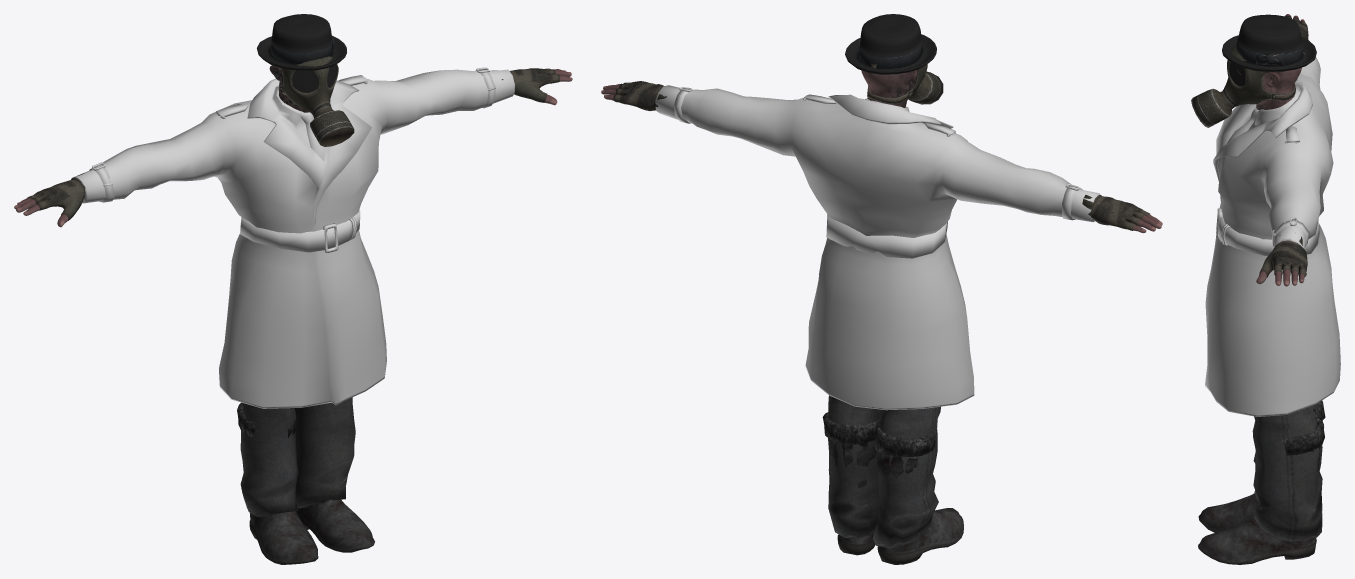
File: Saidamir.obj
3 renders of one model, left to right at view 1: azimuth 30°, elevation 25°; view 2: azimuth 150°, elevation 25°; view 3: azimuth 270°, elevation 25°, orthographic.
Visible parts, largest first — view 1: Tops, Bottoms, Shoes, Hats, Masks, Gloves, Body; view 2: Tops, Bottoms, Shoes, Hats, Gloves, Body, Masks; view 3: Tops, Bottoms, Shoes, Hats, Masks, Body, Gloves.
Part boxes in pixels (x1=…): Tops: x1=73, y1=67, x2=514, y2=408; Bottoms: x1=240, y1=397, x2=355, y2=516; Shoes: x1=237, y1=402, x2=374, y2=564; Hats: x1=257, y1=14, x2=346, y2=70; Masks: x1=278, y1=56, x2=354, y2=146; Gloves: x1=27, y1=68, x2=560, y2=220; Body: x1=14, y1=65, x2=572, y2=227; Tops: x1=655, y1=85, x2=1100, y2=410; Bottoms: x1=828, y1=395, x2=940, y2=548; Shoes: x1=822, y1=412, x2=963, y2=564; Hats: x1=845, y1=14, x2=936, y2=74; Gloves: x1=613, y1=81, x2=1149, y2=230; Body: x1=601, y1=70, x2=1162, y2=233; Masks: x1=867, y1=47, x2=943, y2=104; Tops: x1=1205, y1=57, x2=1340, y2=416; Bottoms: x1=1252, y1=406, x2=1322, y2=541; Shoes: x1=1198, y1=400, x2=1325, y2=564; Hats: x1=1222, y1=14, x2=1316, y2=71; Masks: x1=1191, y1=45, x2=1304, y2=127; Body: x1=1256, y1=14, x2=1305, y2=286; Gloves: x1=1259, y1=15, x2=1308, y2=277.
Size of the model in its own units: 2 by 1.78 by 0.4656.
